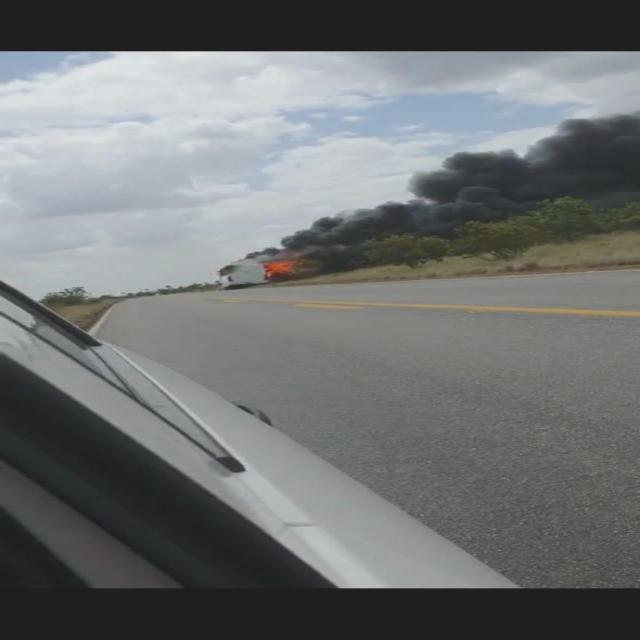Fire: (248, 252, 302, 286)
Smoke: (305, 110, 640, 275), (248, 230, 304, 250)
